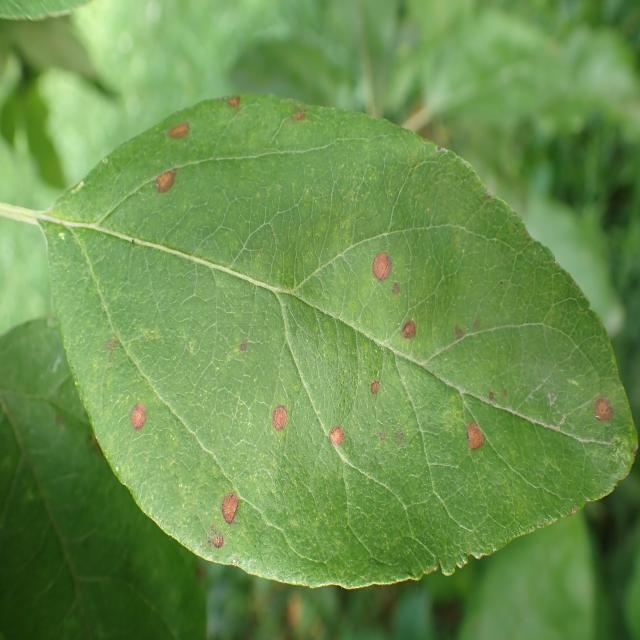frog-eye-leaf-spot: (42, 92, 639, 590)
